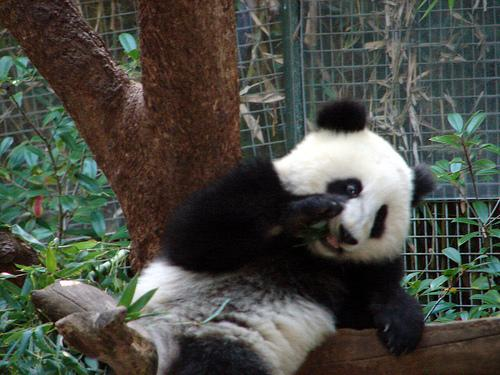panda: (46, 100, 435, 374)
